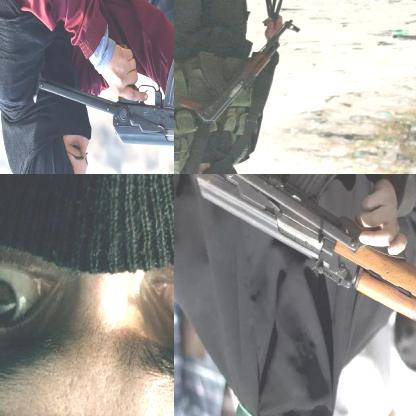rifle: (194, 174, 415, 394), (31, 11, 173, 168), (182, 18, 303, 129)
